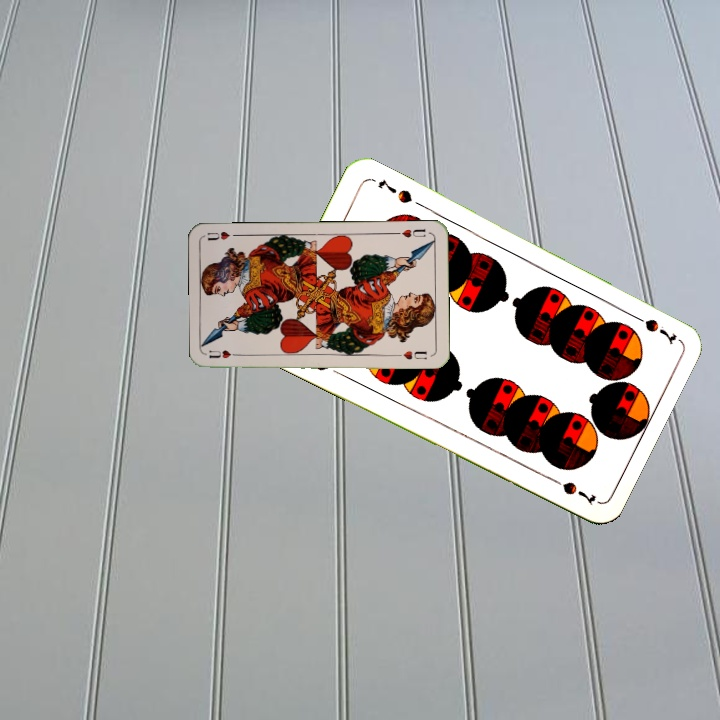HU: (205, 347, 245, 361), (391, 225, 428, 240)
S7: (625, 308, 679, 347)
